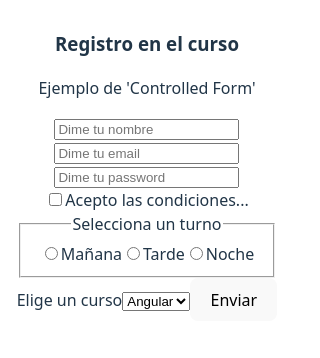
Test: RegisterForm Component › should send registration data when complete form is submitted
Expected: the field labelled "Dime tu email" is shown, 54,143 -> 240,164
Expected: the field labelled "Dime tu password" is shown, 54,167 -> 240,188
Type "testUser" into the field named "username" at point(147, 130), box 54,119 -> 240,140
Type "test@example.com" into the field labelled "Dime tu email" at point(147, 154), box 54,143 -> 240,164
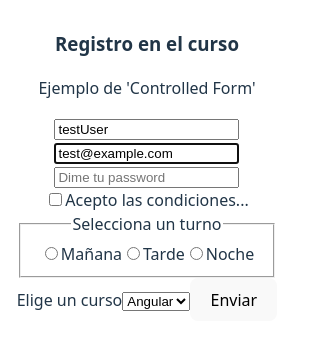
Type "password123" into the field labelled "Dime tu password" at point(147, 178), box 54,167 -> 240,188
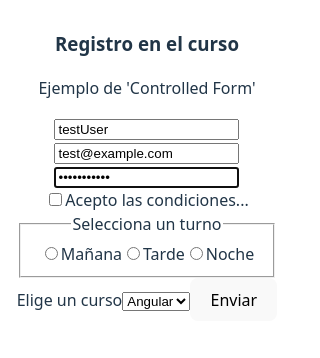
Click the checkbox named "conditions" at point(56, 200), box 49,193 -> 62,206
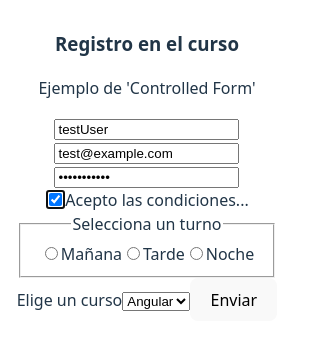
Click the radio button with aria-label "turnN" at point(196, 254), box 190,247 -> 203,260
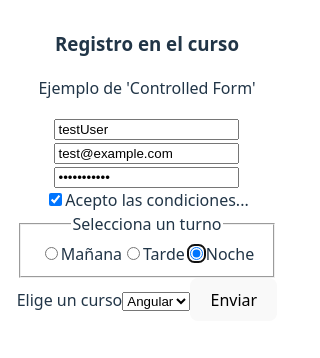
Select "Angular" in the dropdown named "course" at point(156, 301), box 122,292 -> 190,310
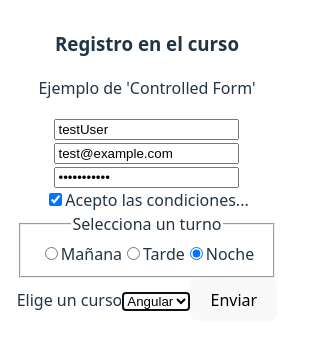
Expected: the checkbox named "conditions" is checked, 49,193 -> 62,206
Expected: the radio button with aria-label "turnN" is checked, 190,247 -> 203,260
Click the button "Enviar" at point(234, 300), box 190,278 -> 277,321
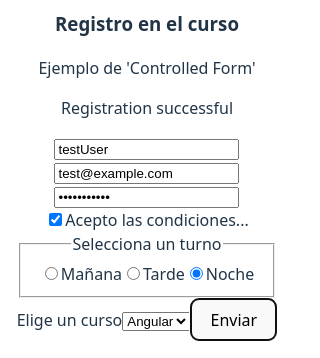
Expected: the text "Registration successful" is shown, 61,97 -> 233,119
